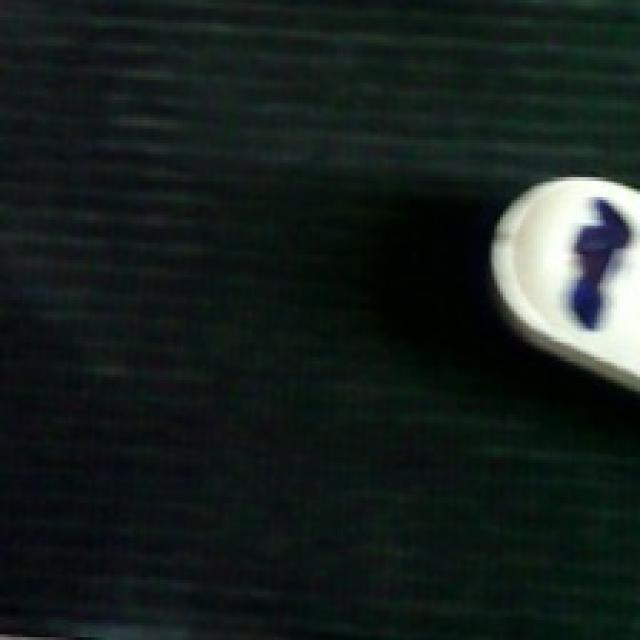defected: (483, 171, 640, 399)
